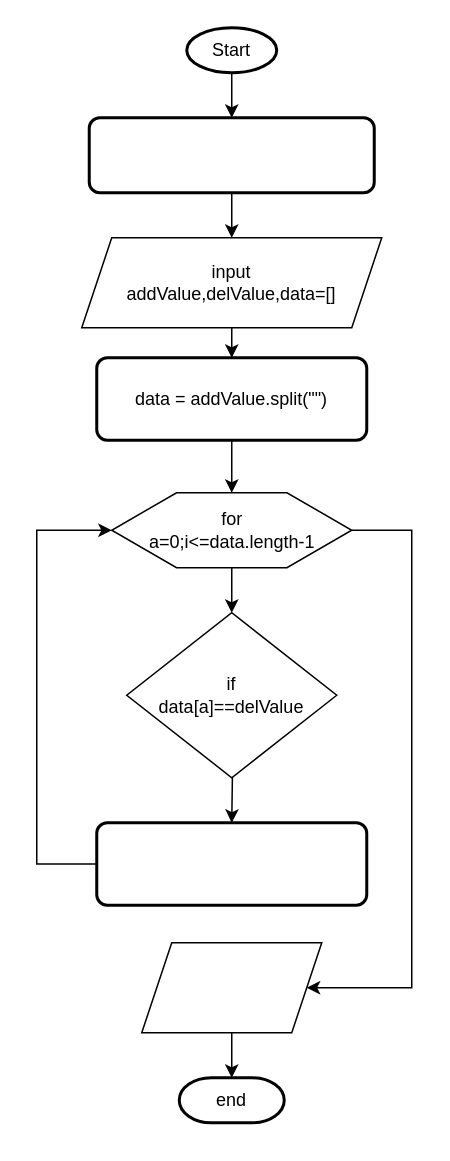
This 450x1161 diagram has some shape labels left out. The centre of each missing label's shape, as x and y in pixels:
"delete data[a]" goes at pixel 231 863.
"initialization addValue,delValue,data=[],a" goes at pixel 231 155.
"output" goes at pixel 231 987.
